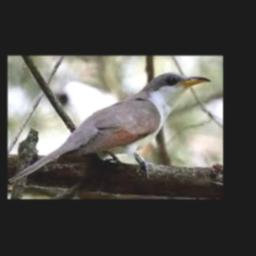Cuckoo: (8, 72, 210, 183)
